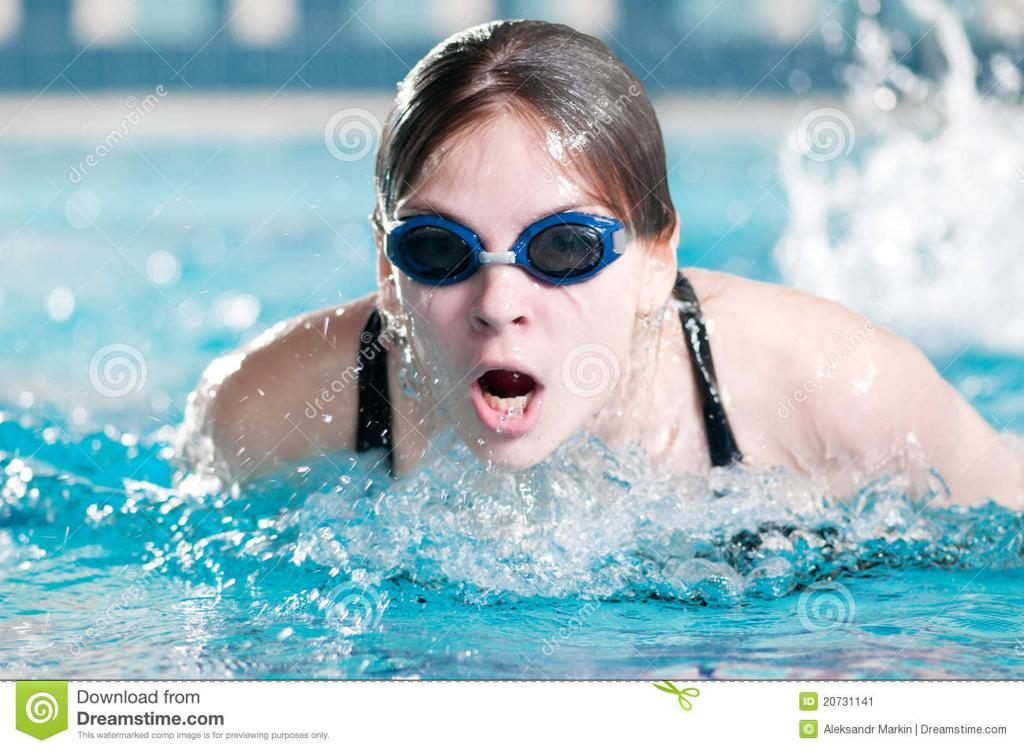face: (396, 152, 638, 470)
